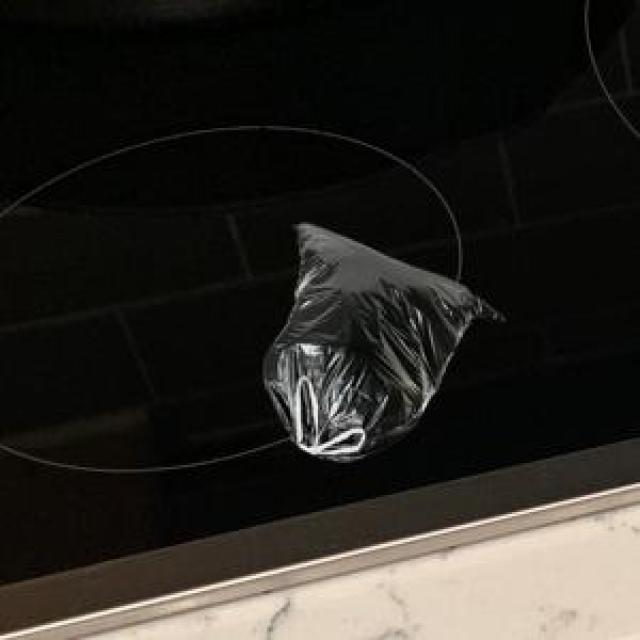Vinyl: (264, 222, 502, 462)
